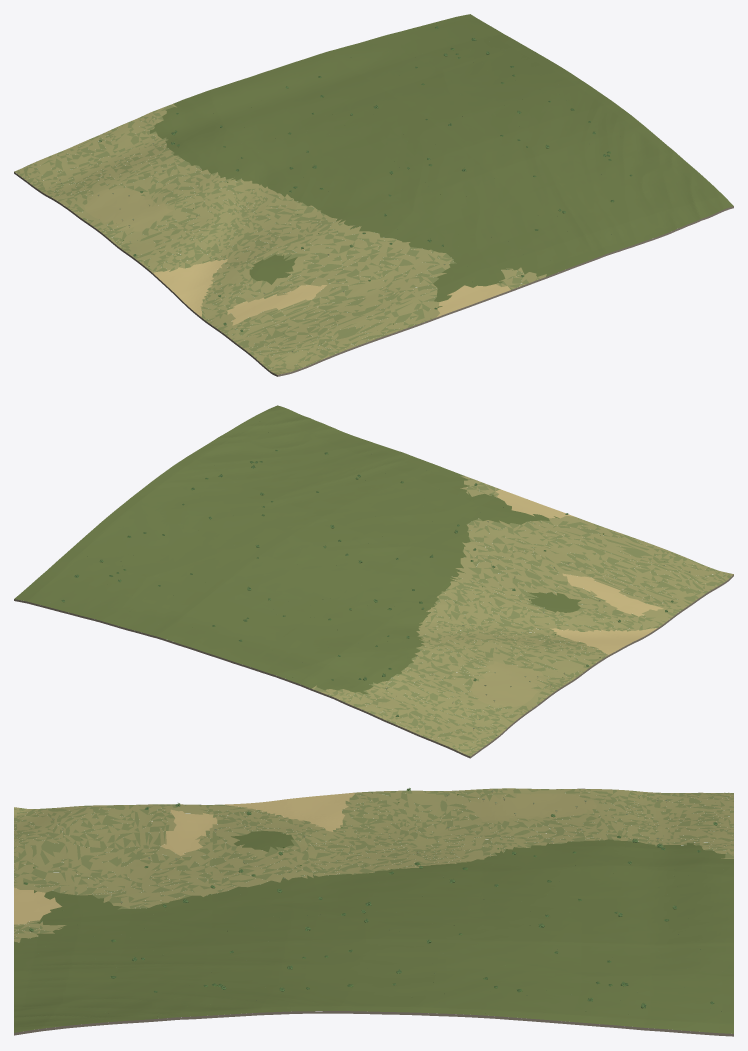
Rendered from parca_+4_+0-yakin.glb.
The picture shows the model from 3 angles, top to bottom: view 1: azimuth 30°, elevation 25°; view 2: azimuth 150°, elevation 25°; view 3: azimuth 270°, elevation 25°; orthographic projection. The views are drawn at different scales.
Visible parts, largest first — view 1: parca_+4_+0_arazi, parca_+4_+0_bitkiler; view 2: parca_+4_+0_arazi, parca_+4_+0_bitkiler; view 3: parca_+4_+0_arazi, parca_+4_+0_bitkiler.
Boxes of the visible parts, x1,y1,x2,y2 form: parca_+4_+0_arazi: [14, 14, 733, 376]; parca_+4_+0_bitkiler: [59, 24, 675, 351]; parca_+4_+0_arazi: [14, 405, 733, 758]; parca_+4_+0_bitkiler: [50, 432, 690, 735]; parca_+4_+0_arazi: [14, 788, 733, 1036]; parca_+4_+0_bitkiler: [23, 788, 723, 1011].
Bounding box in the file's own units: 1000 × 162 × 1000.
